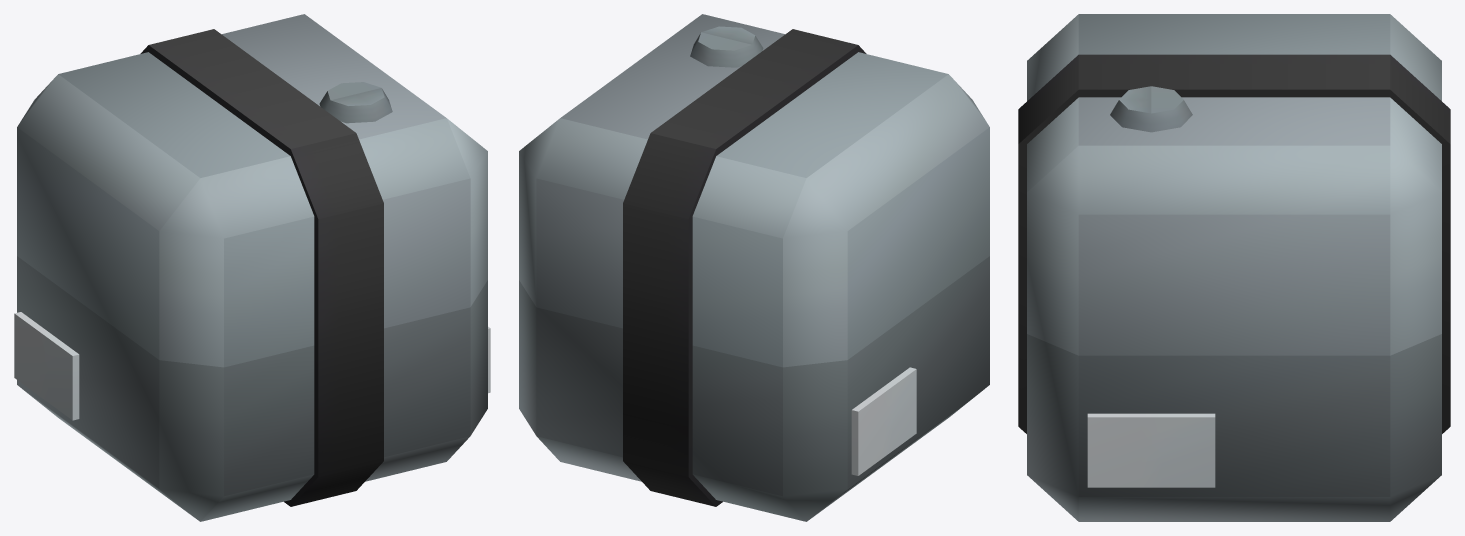
Rendered from kay-carga-embalada.gltf.
3 views of the same model, side by side, from view 1: azimuth 30°, elevation 25°; view 2: azimuth 150°, elevation 25°; view 3: azimuth 270°, elevation 25° (orthographic). The views are drawn at different scales.
Parts seen in each view (by area): view 1: cargo_B_packed; view 2: cargo_B_packed; view 3: cargo_B_packed.
Part boxes in pixels (box(x1,y1,x2,y2)): cargo_B_packed: box(14, 14, 490, 521); cargo_B_packed: box(519, 14, 989, 521); cargo_B_packed: box(1018, 14, 1450, 521).
Bounding box in the file's own units: 1.35 × 1.38 × 1.35.
1 material, 1 textured.
